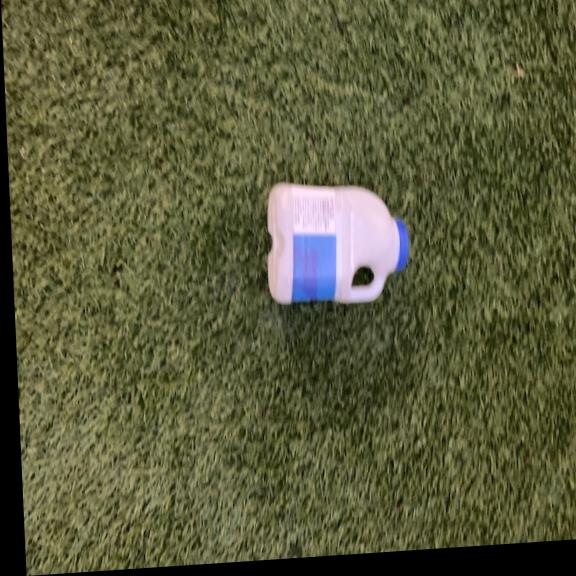Plastik: (260, 169, 414, 313)
